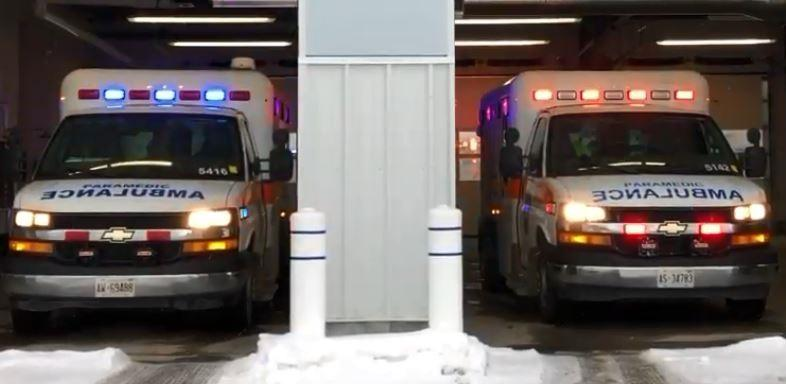ambulance_on: (9, 52, 288, 322), (477, 73, 775, 322)
